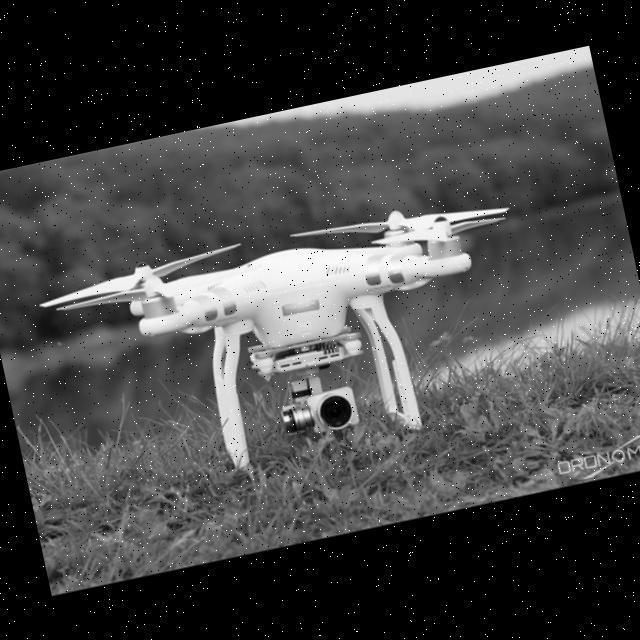Drons: (15, 160, 559, 524)
